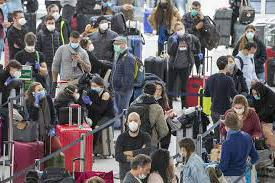mask_weared_incorrect: (136, 165, 151, 179), (154, 87, 163, 100)
with_mask: (128, 115, 139, 132), (231, 104, 245, 116), (35, 87, 47, 100), (111, 41, 125, 52), (176, 145, 187, 157), (69, 37, 80, 49), (89, 83, 101, 94), (251, 90, 261, 101), (175, 26, 186, 36), (25, 42, 36, 52), (46, 21, 56, 32), (17, 15, 27, 26), (51, 9, 61, 20), (11, 67, 22, 77), (71, 88, 80, 100), (227, 59, 235, 72), (158, 1, 171, 8), (248, 48, 256, 59), (191, 6, 200, 15), (99, 20, 108, 29), (246, 29, 254, 39)
